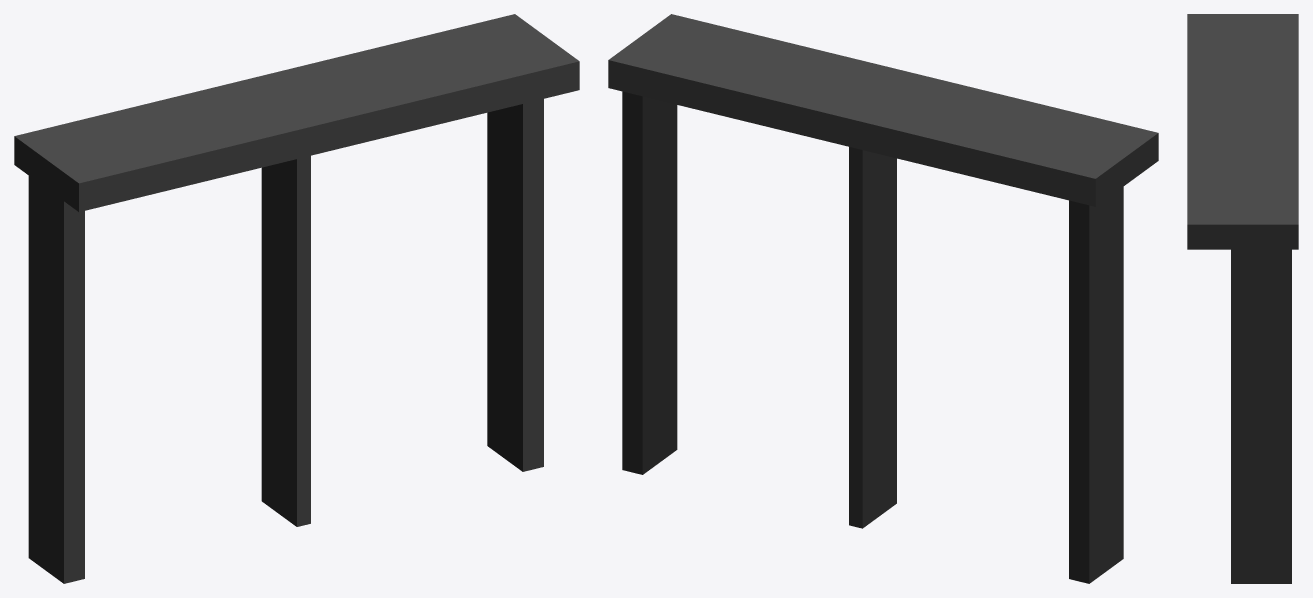
The model's file is Door_02.fbx.
3 views of the same model, side by side, from view 1: azimuth 30°, elevation 25°; view 2: azimuth 150°, elevation 25°; view 3: azimuth 270°, elevation 25° (orthographic). The views are drawn at different scales.
Parts seen in each view (by area): view 1: Door_01; view 2: Door_01; view 3: Door_01.
Part boxes in pixels (x1,y1,x2,y2): Door_01: (14, 14, 579, 583); Door_01: (608, 14, 1158, 583); Door_01: (1187, 14, 1298, 583).
Size of the model in its own units: 414 by 333 by 92.59.
